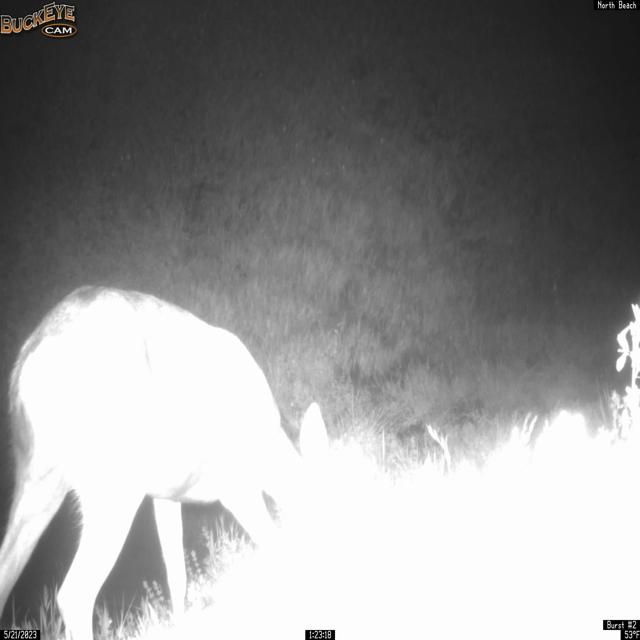deer: (0, 282, 336, 640)
